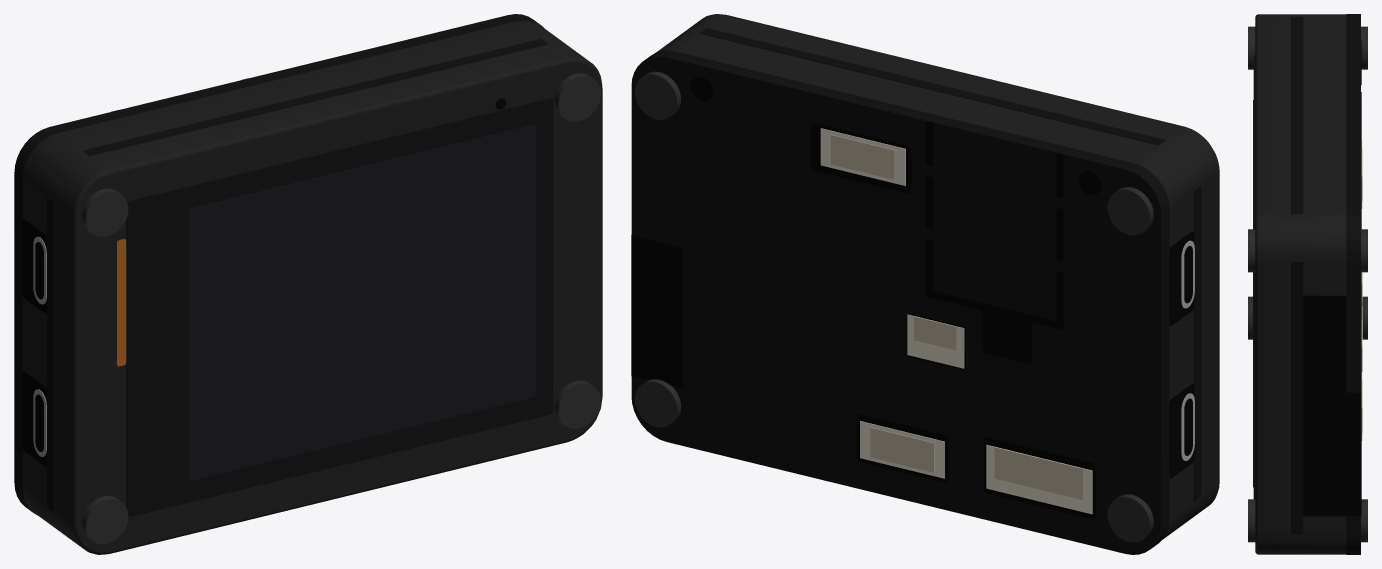
File: crowpanel_2_4.glb
3 renders of one model, left to right at view 1: azimuth 30°, elevation 25°; view 2: azimuth 150°, elevation 25°; view 3: azimuth 270°, elevation 25°, orthographic. The views are drawn at different scales.
Visible parts, largest first — view 1: Screen, Body, Glass, BackPlate, SeamTop, SeamLeft, FrontScrewLowerLeft, FrontScrewLowerRight, FrontScrewUpperRight, FrontScrewUpperLeft, FlexSlot, USBWindowLower (+1 smaller); view 2: BackPlate, Body, ButtonCutoutBack, SeamTop, UART0Socket, SeamLeft, BATWindow, UART0, I2CSocket, UART1Socket, UART0Window, UART1Window (+12 smaller); view 3: Body, ButtonCutoutSide, BackPlate, SideWindow, SeamRight, SeamTop, Glass, FrontScrewLowerRight, FrontScrewUpperRight, Screen, FrontScrewUpperLeft, BackScrewLowerRight (+4 smaller).
Part boxes in pixels (x1,y1,x2,y2): Screen: [188, 124, 535, 480]; Body: [23, 20, 602, 554]; Glass: [126, 97, 553, 517]; BackPlate: [14, 14, 543, 515]; SeamTop: [83, 39, 547, 155]; SeamLeft: [47, 196, 54, 511]; FrontScrewLowerLeft: [82, 495, 128, 544]; FrontScrewLowerRight: [554, 380, 600, 428]; FrontScrewUpperRight: [554, 73, 600, 121]; FrontScrewUpperLeft: [82, 188, 128, 236]; FlexSlot: [117, 239, 126, 366]; USBWindowLower: [22, 371, 46, 466]; BackPlate: [631, 50, 1169, 554]; Body: [656, 14, 1219, 539]; ButtonCutoutBack: [631, 235, 683, 388]; SeamTop: [700, 28, 1165, 145]; UART0Socket: [994, 447, 1083, 499]; SeamLeft: [1193, 186, 1201, 501]; BATWindow: [982, 304, 1031, 363]; UART0: [986, 444, 1092, 514]; I2CSocket: [870, 427, 934, 472]; UART1Socket: [831, 134, 894, 179]; UART0Window: [983, 437, 1095, 519]; UART1Window: [811, 122, 911, 193]; Body: [1255, 14, 1346, 554]; ButtonCutoutSide: [1303, 392, 1360, 516]; BackPlate: [1346, 14, 1360, 554]; SideWindow: [1303, 295, 1346, 392]; SeamRight: [1291, 261, 1303, 534]; SeamTop: [1291, 17, 1303, 213]; Glass: [1253, 55, 1255, 499]; FrontScrewLowerRight: [1248, 499, 1255, 542]; FrontScrewUpperRight: [1248, 229, 1255, 272]; Screen: [1253, 100, 1253, 487]; FrontScrewUpperLeft: [1248, 26, 1255, 69]; BackScrewLowerRight: [1361, 499, 1367, 542].
Bounding box in the file's own units: 0.0751 × 0.0521 × 0.0167.
